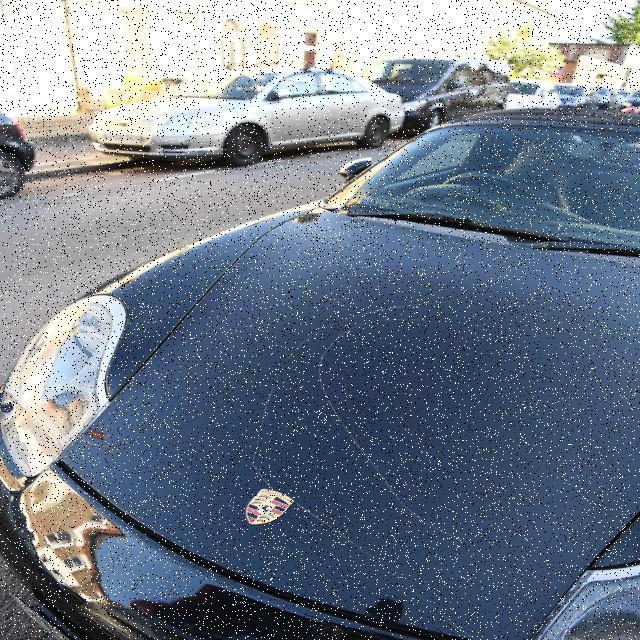bonnet-dent: (61, 226, 602, 594)
